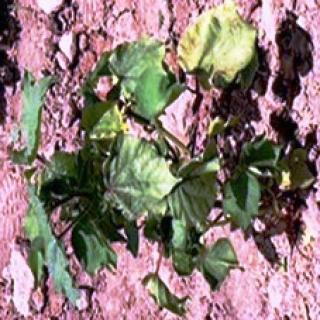wilt: (179, 5, 263, 70), (80, 102, 128, 148)
